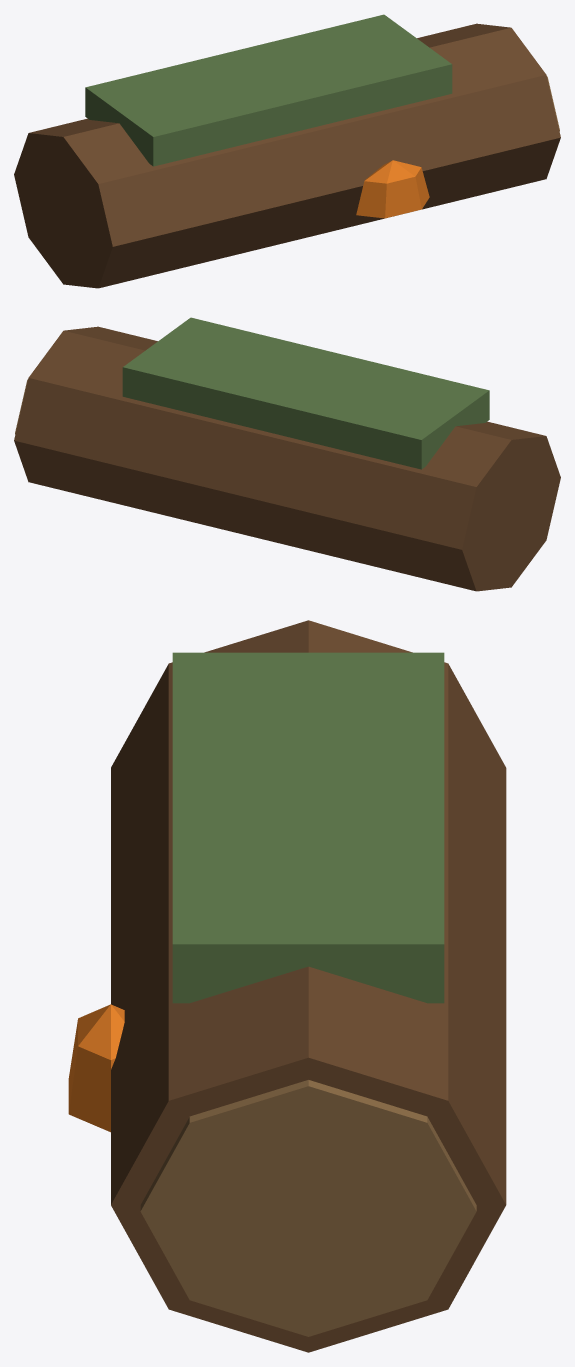
File: env_r6_rotten_log.glb
3 renders of one model, top to bottom at view 1: azimuth 30°, elevation 25°; view 2: azimuth 150°, elevation 25°; view 3: azimuth 270°, elevation 25°, orthographic. The views are drawn at different scales.
Visible parts, largest first — view 1: env_r6_rotten_log; view 2: env_r6_rotten_log; view 3: env_r6_rotten_log.
Part boxes in pixels (bbox=[...]): env_r6_rotten_log: bbox=[14, 14, 560, 288]; env_r6_rotten_log: bbox=[14, 317, 560, 591]; env_r6_rotten_log: bbox=[68, 620, 506, 1352].
Bounding box in the file's own units: 2.4 × 0.8 × 1.
Materials: 1 (1 with a texture image).
